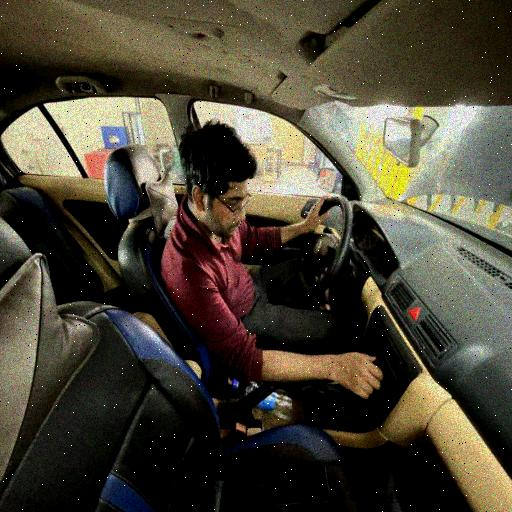operatingradio: (160, 120, 395, 406)
